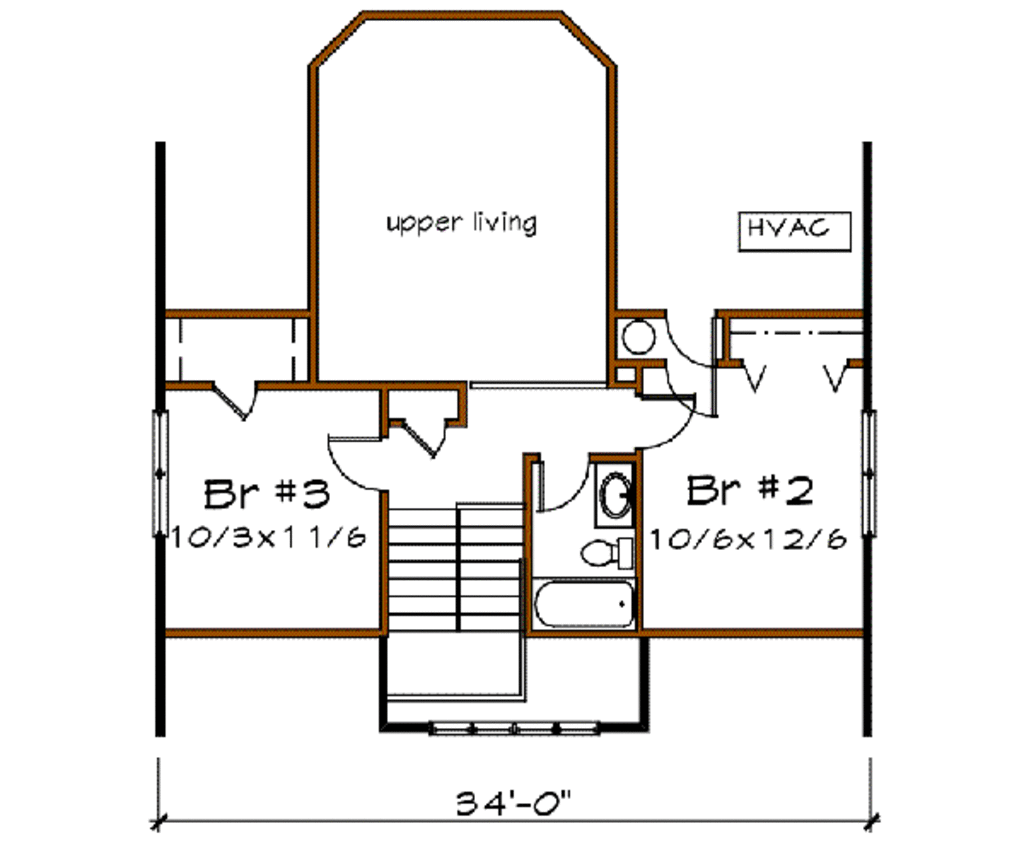door: (321, 435, 389, 495), (667, 312, 722, 370), (661, 364, 719, 417), (640, 391, 693, 448), (537, 461, 590, 509), (215, 380, 263, 427), (402, 416, 451, 461)
large_sink: (567, 528, 635, 571)
small_sink: (592, 462, 639, 526)
stairs: (389, 505, 524, 694)
tub: (524, 572, 638, 632)
window: (424, 718, 598, 739), (857, 408, 881, 537), (151, 409, 171, 537)
